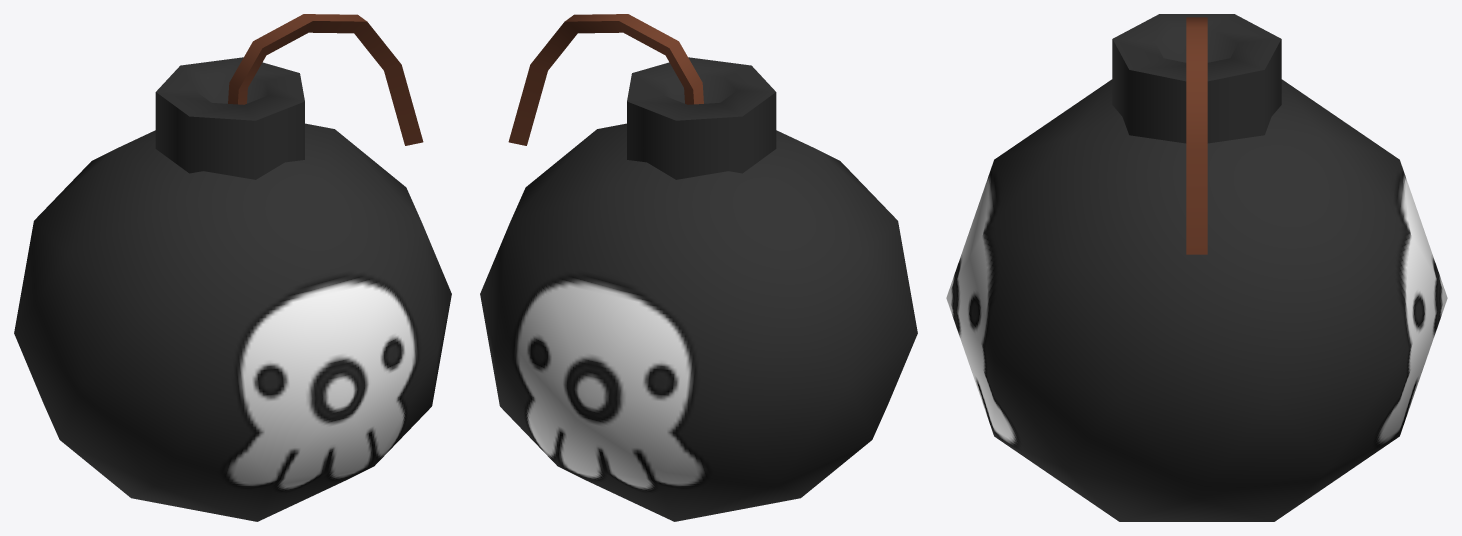
The model's file is bomb.FBX.
3 renders of one model, left to right at view 1: azimuth 30°, elevation 25°; view 2: azimuth 150°, elevation 25°; view 3: azimuth 270°, elevation 25°, orthographic. The views are drawn at different scales.
Visible parts, largest first — view 1: bomb; view 2: bomb; view 3: bomb.
Part boxes in pixels (box(x1,y1,x2,y2)): bomb: box(14, 14, 451, 521); bomb: box(480, 14, 917, 521); bomb: box(946, 14, 1447, 521).
Size of the model in its own units: 57.29 by 68.85 by 60.
